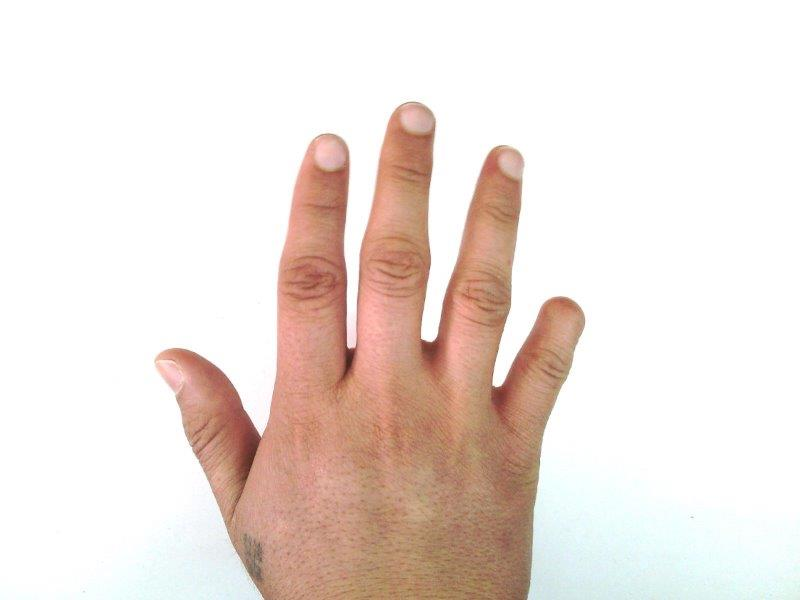hand: (155, 100, 584, 599)
